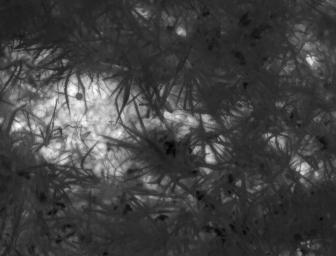landmine: (60, 78, 101, 116)
